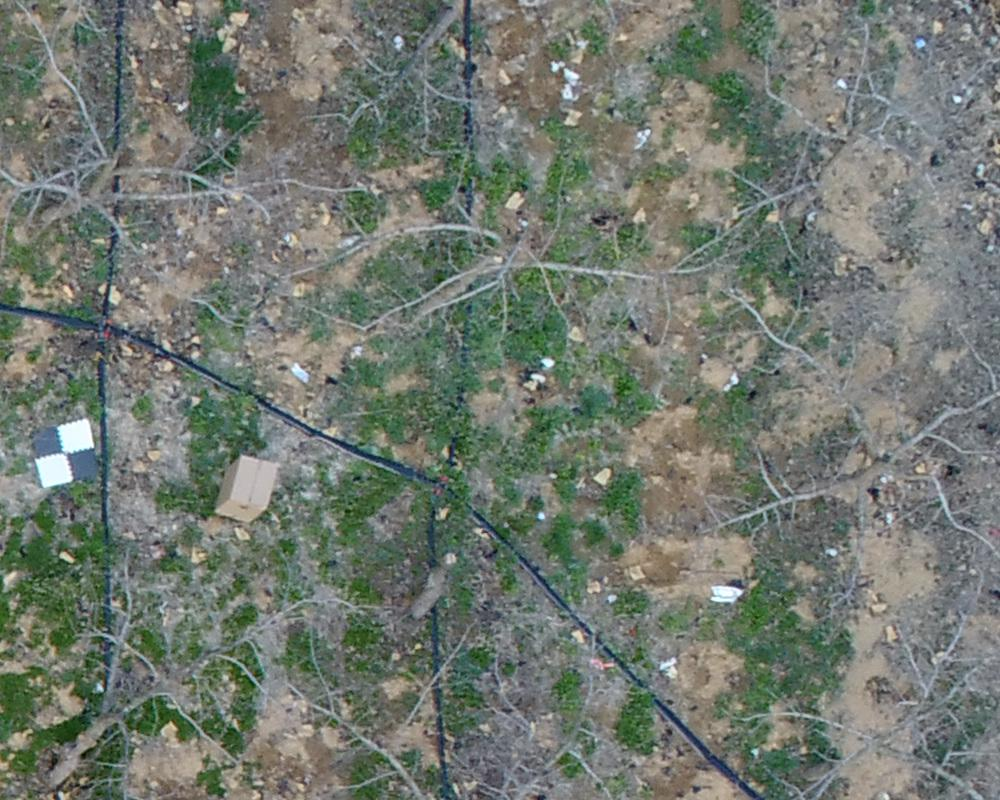apple: (10, 11, 366, 323), (20, 532, 378, 790), (678, 23, 941, 369), (708, 363, 990, 591), (358, 163, 660, 372), (305, 616, 640, 790), (717, 599, 990, 790)
